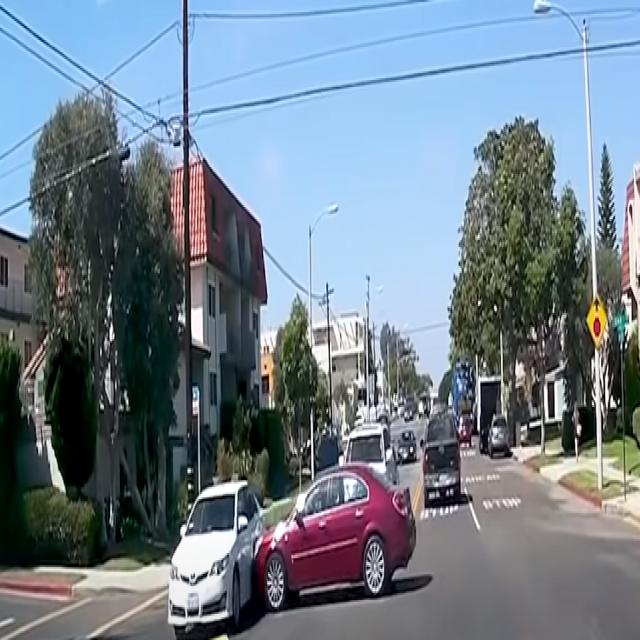accident: (161, 441, 421, 640)
